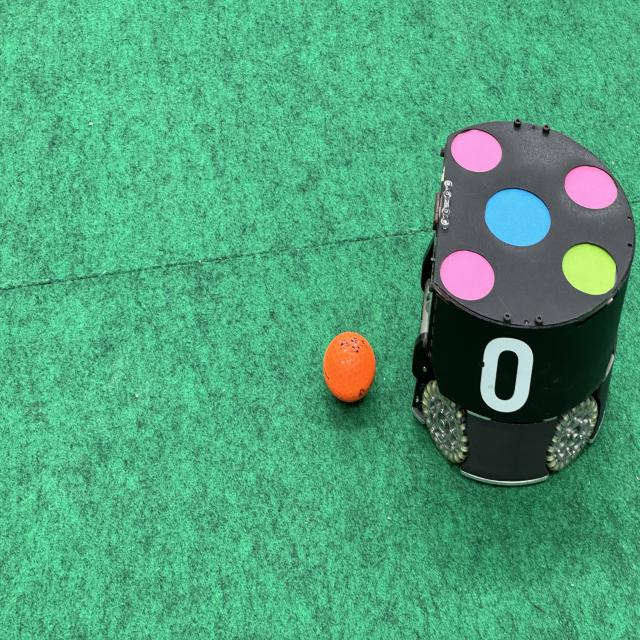ball: (324, 328, 379, 409)
